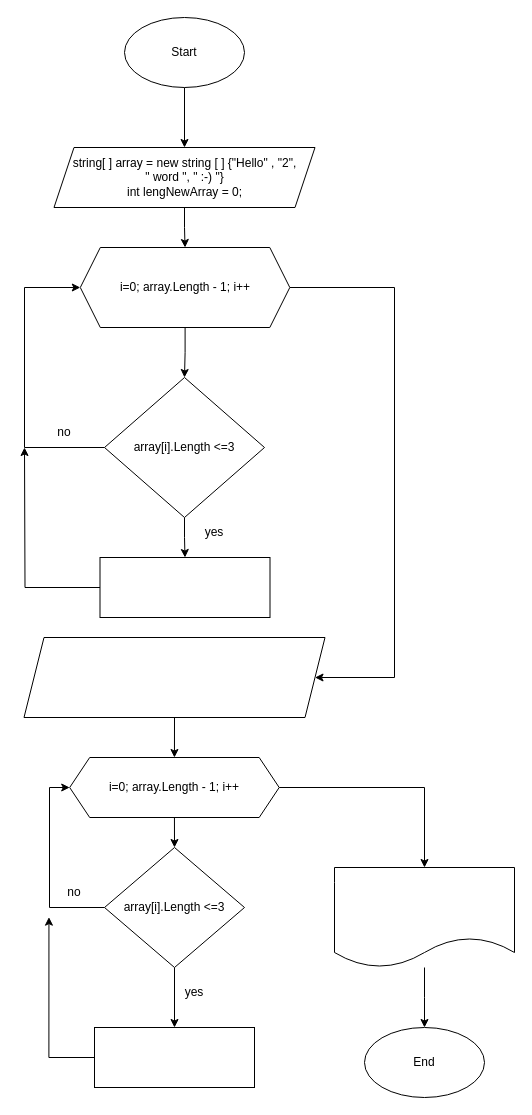
Some shapes in this 532 by 1115 pixel diagram are drawn without their labels. Here are the shapes that lost their labels. From the top down, the box of each, then its label:
(99, 556, 270, 618): lengNewArray++
(23, 636, 325, 718): string[ ] newArray = new string[ lengNewArray] int idx = 0;
(334, 866, 514, 968): PrintArray(array) Console.Write(" ->") PrintArray(newArray)
(94, 1026, 254, 1088): newArray[idx] = array[i] idx++
